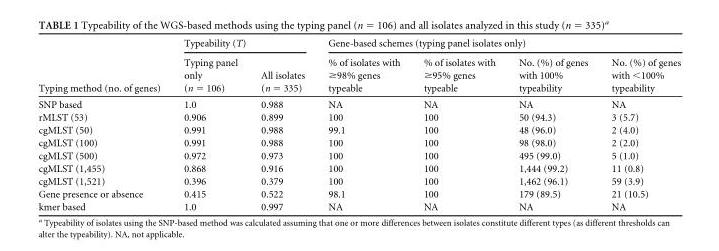table: (37, 37, 680, 211)
table column: (37, 37, 171, 211), (315, 37, 411, 211), (411, 37, 506, 211), (506, 37, 599, 211), (599, 37, 680, 211), (171, 37, 248, 211), (248, 37, 315, 211)
table column header: (37, 37, 680, 95)
table row: (37, 52, 680, 95), (37, 37, 680, 52), (37, 95, 680, 110), (37, 110, 680, 123), (37, 123, 680, 136), (37, 148, 680, 161), (37, 161, 680, 174), (37, 174, 680, 187), (37, 136, 680, 148), (37, 187, 680, 199), (37, 199, 680, 211)
table spanning cell: (37, 37, 171, 95), (315, 37, 680, 52), (171, 37, 315, 52)
